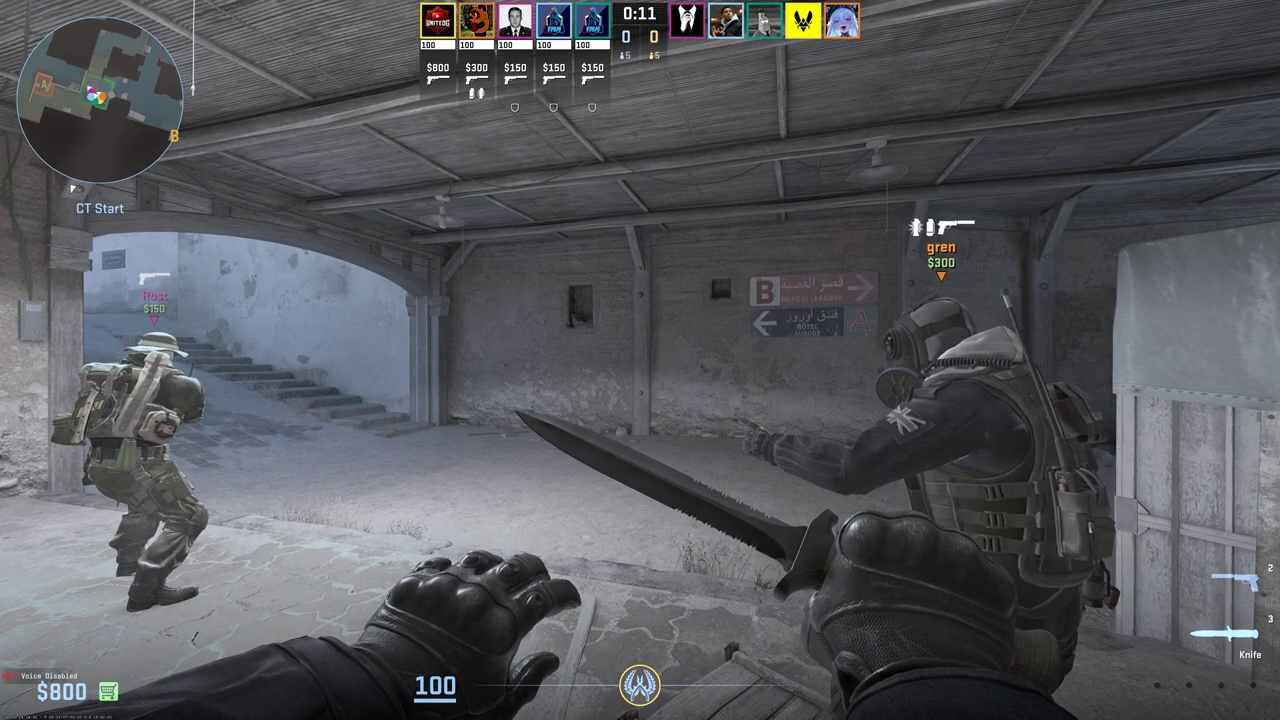CT: (869, 294, 1066, 653), (89, 331, 207, 613)
